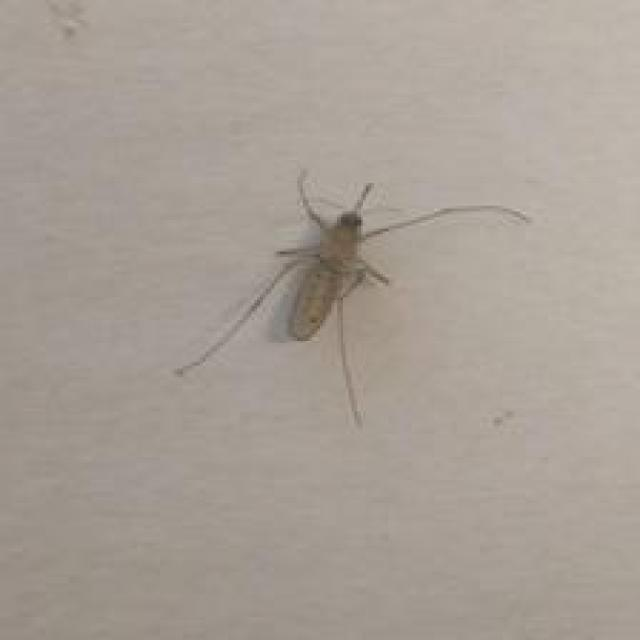Culex: (172, 167, 532, 430)
